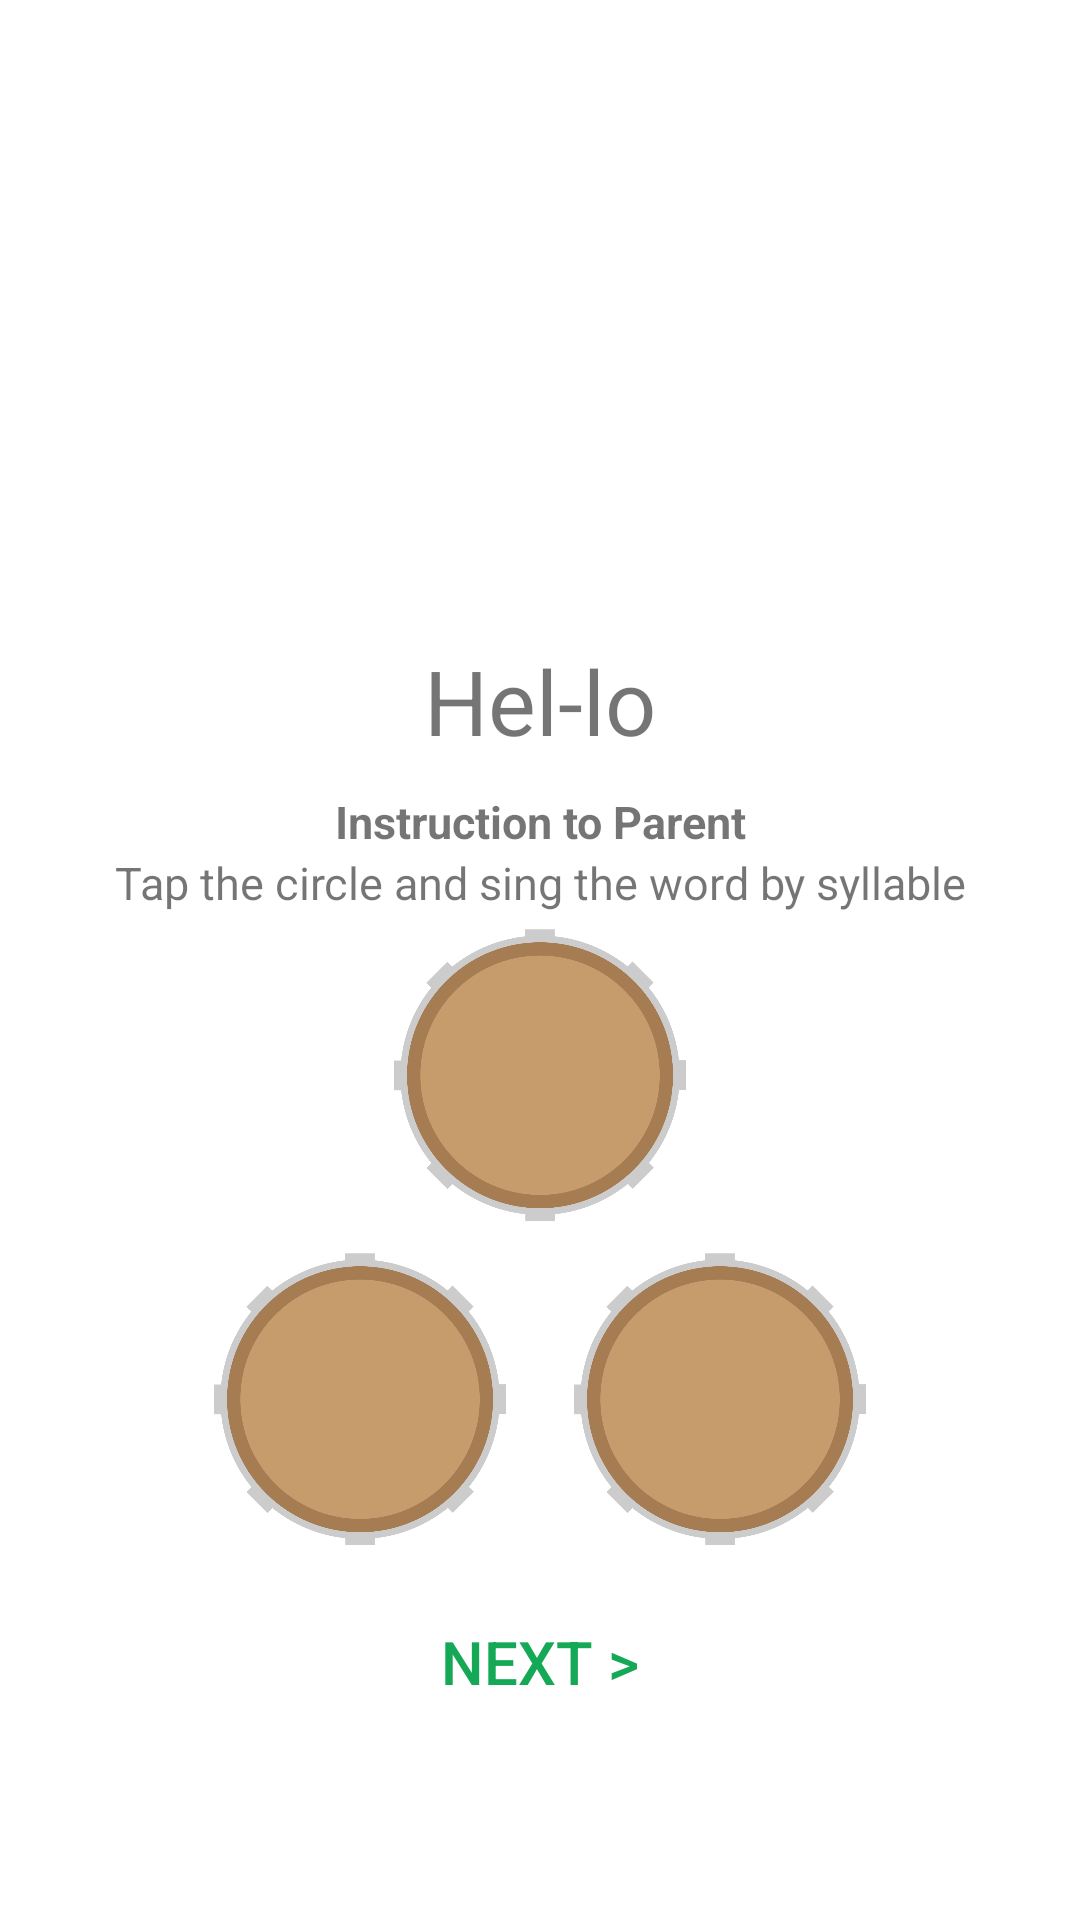

Where to tap for icons on this 1080×1920 app screen, as (x=x, y=y):
drum: (x=540, y=1075), (x=360, y=1399), (x=720, y=1399)
